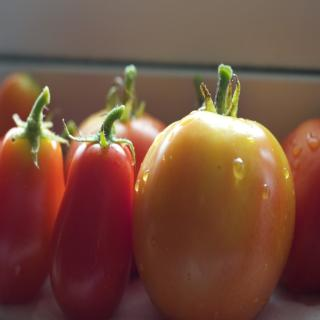tomato: (122, 79, 301, 320), (48, 103, 136, 320), (0, 83, 70, 304), (64, 64, 166, 179), (280, 118, 320, 293)
